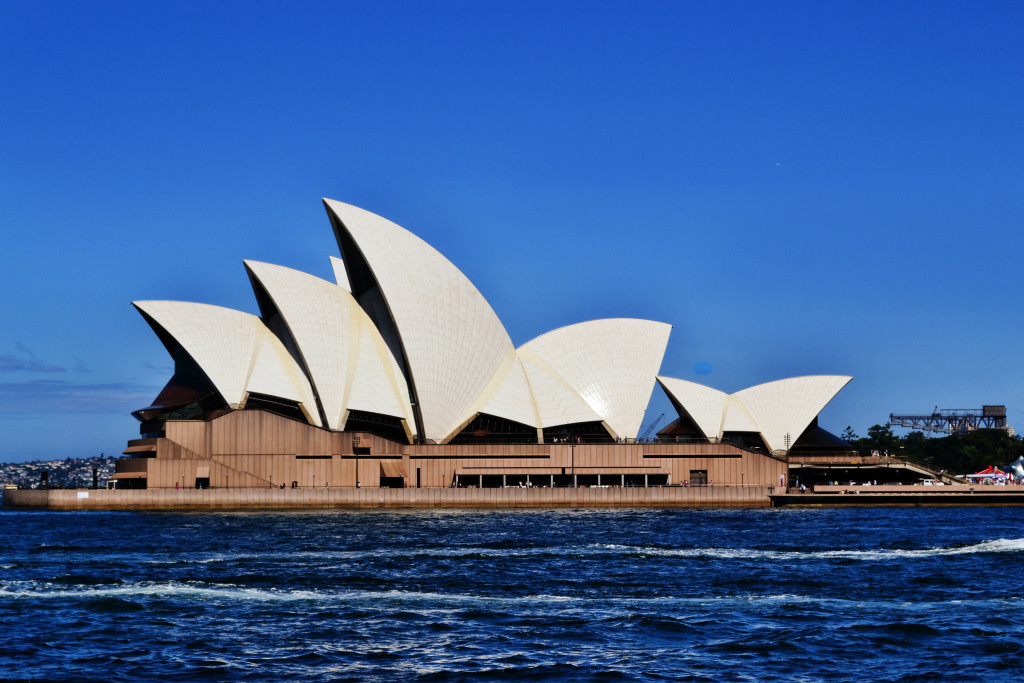opera house: (57, 170, 892, 502)
